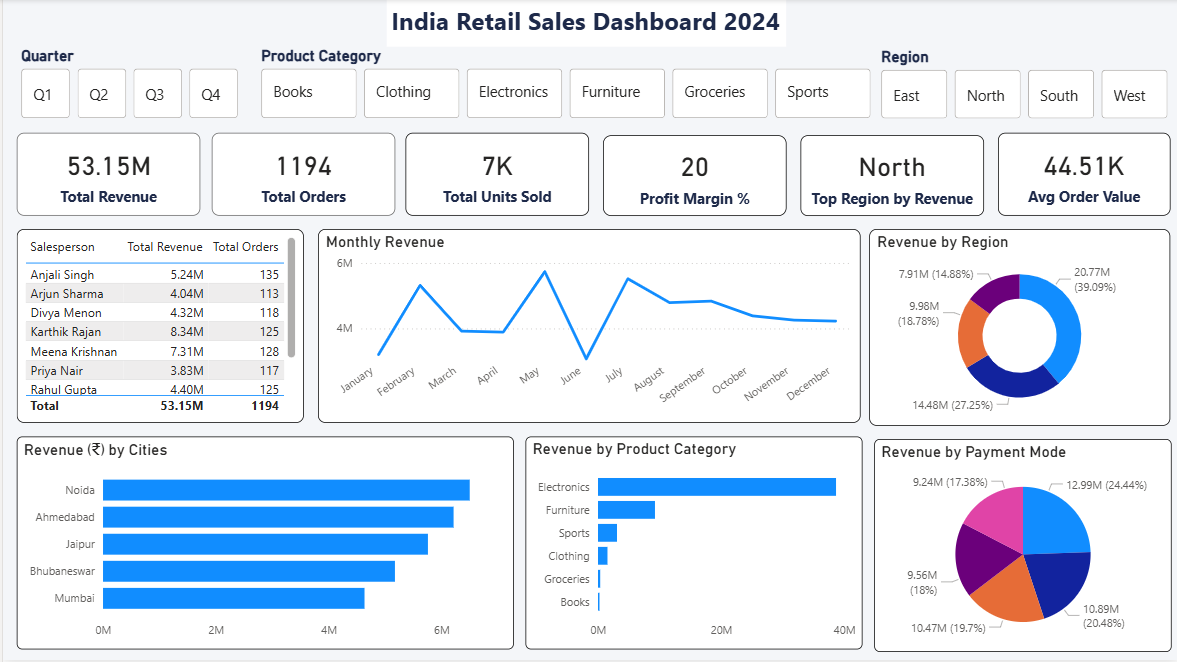

The page's visual inventory and layout, read from the dashboard file:
{"tool":"powerbi","page":{"name":"Page 1","canvas":[1280,720],"ordinal":0},"visuals":[{"type":"card","fields":{"Values":["Retail_Measures.Total Revenue"]},"box":[15.1,145.5,200.3,90.6],"z":0},{"type":"card","fields":{"Values":["Retail_Measures.Total Orders"]},"box":[227.8,145.5,200.3,90.6],"z":1000},{"type":"card","fields":{"Values":["Retail_Measures.Profit Margin %"]},"box":[653.2,148.2,200.3,87.8],"z":2000},{"type":"card","fields":{"Values":["Retail_Measures.Avg Order Value"]},"box":[1084.1,145.5,188,90.6],"z":3000},{"type":"lineChart","title":"Monthly Revenue","fields":{"Category":["Retail Sales Data.Date.Variation.Date Hierarchy.Month"],"Y":["Retail_Measures.Total Revenue"]},"box":[343.1,251.1,591.4,211.3],"z":4000},{"type":"donutChart","title":"Revenue by Region","fields":{"Y":["Retail_Measures.Total Revenue"],"Category":["Retail Sales Data.Region"]},"box":[944.1,251.1,328,214.1],"z":5000},{"type":"clusteredBarChart","title":"Revenue (₹) by Cities","fields":{"Category":["Retail Sales Data.City"],"Y":["Sum(Retail Sales Data.Revenue (₹))"]},"box":[15.3,477.2,541.2,232.3],"z":6000},{"type":"pieChart","title":"Revenue by Payment Mode","fields":{"Category":["Retail Sales Data.Payment Mode"],"Y":["Retail_Measures.Total Revenue"]},"box":[948.9,480,324.2,232.3],"z":7000},{"type":"advancedSlicerVisual","fields":{"Values":["Retail Sales Data.Quarter"]},"box":[15.1,52.1,247,83.7],"z":8000},{"type":"advancedSlicerVisual","fields":{"Values":["Retail Sales Data.Region"]},"box":[952.3,53.5,322.5,82.3],"z":9000},{"type":"advancedSlicerVisual","fields":{"Values":["Retail Sales Data.Product Category"]},"box":[275.8,52.1,676.5,83.7],"z":10000},{"type":"textbox","box":[418.5,0,435,52.1],"z":11000},{"type":"barChart","title":"Revenue by Product Category","fields":{"Y":["Retail_Measures.Total Revenue"],"Category":["Retail Sales Data.Product Category"]},"box":[569,477.2,367.3,232.3],"z":12000},{"type":"card","fields":{"Values":["Retail_Measures.Total Units Sold"]},"box":[439.1,145.5,200.3,90.6],"z":13000},{"type":"card","fields":{"Values":["Retail_Measures.Top Region by Revenue"]},"box":[868.6,148.2,200.3,87.8],"z":14000},{"type":"tableEx","fields":{"Values":["Retail Sales Data.Salesperson1","Retail_Measures.Total Revenue","Retail_Measures.Total Orders"]},"box":[15.1,251.1,312.9,211.3],"z":15000}]}

Visuals, with their boxes in screenshot pixels (x1, y1, x2, y2), scaled from the page's 1280x720 canvas onto the 1177x662 screenshot:
card - Retail_Measures.Total Revenue: 14 134 198 217
card - Retail_Measures.Total Orders: 209 134 394 217
card - Retail_Measures.Profit Margin %: 601 136 785 217
card - Retail_Measures.Avg Order Value: 997 134 1170 217
"Monthly Revenue" lineChart: 315 231 859 425
"Revenue by Region" donutChart: 868 231 1170 428
"Revenue (₹) by Cities" clusteredBarChart: 14 439 512 652
"Revenue by Payment Mode" pieChart: 873 441 1171 655
advancedSlicerVisual - Retail Sales Data.Quarter: 14 48 241 125
advancedSlicerVisual - Retail Sales Data.Region: 876 49 1172 125
advancedSlicerVisual - Retail Sales Data.Product Category: 254 48 876 125
textbox: 385 0 785 48
"Revenue by Product Category" barChart: 523 439 861 652
card - Retail_Measures.Total Units Sold: 404 134 588 217
card - Retail_Measures.Top Region by Revenue: 799 136 983 217
tableEx - Retail Sales Data.Salesperson1 x Retail_Measures.Total Revenue: 14 231 302 425
